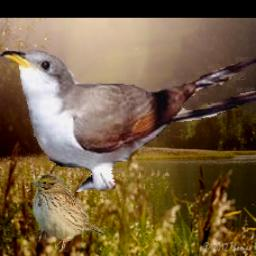Cuckoo: (0, 48, 256, 192)
Sparrow: (28, 172, 104, 253)
